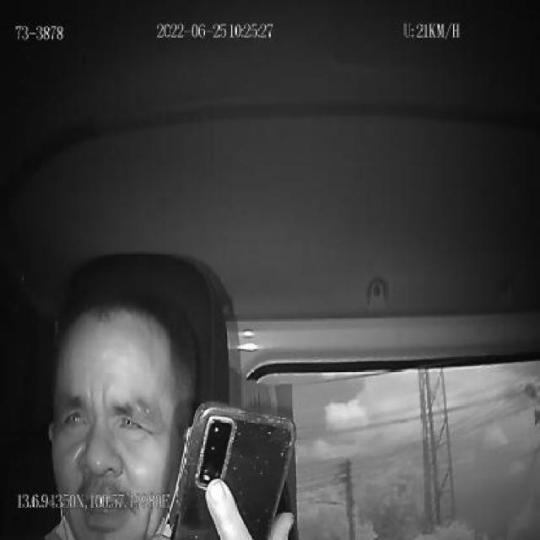phone: (170, 400, 298, 540)
